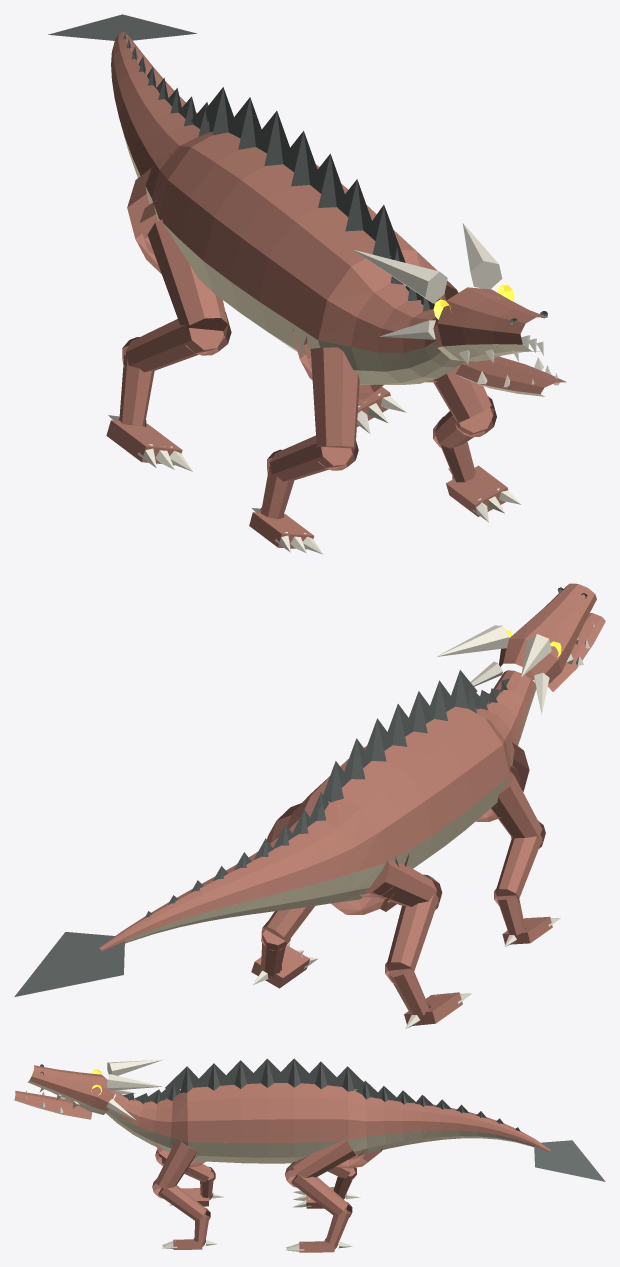
File: dragons-and-wyverns-drake-crouched-b88f4ca0__36728.glb
3 renders of one model, top to bottom at view 1: azimuth 30°, elevation 25°; view 2: azimuth 150°, elevation 25°; view 3: azimuth 270°, elevation 25°, orthographic. The views are drawn at different scales.
Visible parts, largest first — view 1: drake-crouched; view 2: drake-crouched; view 3: drake-crouched.
Part boxes in pixels (x1,y1,x2,y2): drake-crouched: [48, 14, 566, 554]; drake-crouched: [14, 583, 605, 1029]; drake-crouched: [14, 1058, 605, 1252].
Bounding box in the file's own units: 0.8609 × 0.9905 × 3.1.
